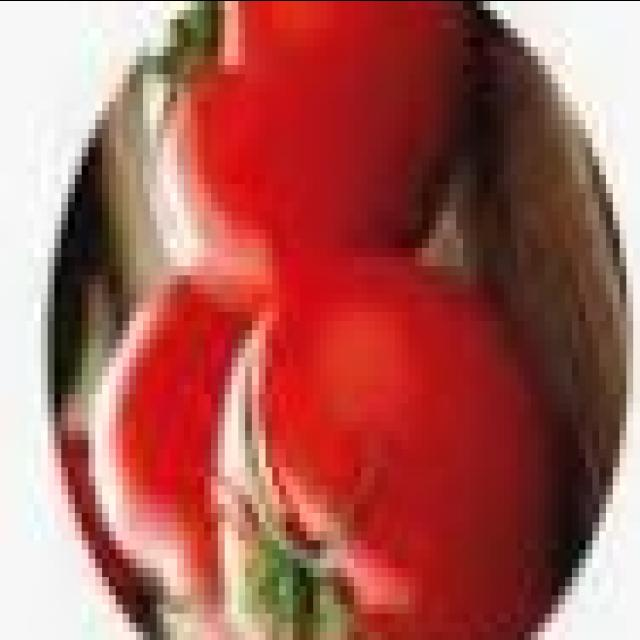Healthy: (156, 229, 531, 640), (102, 0, 476, 265), (52, 224, 300, 600)
